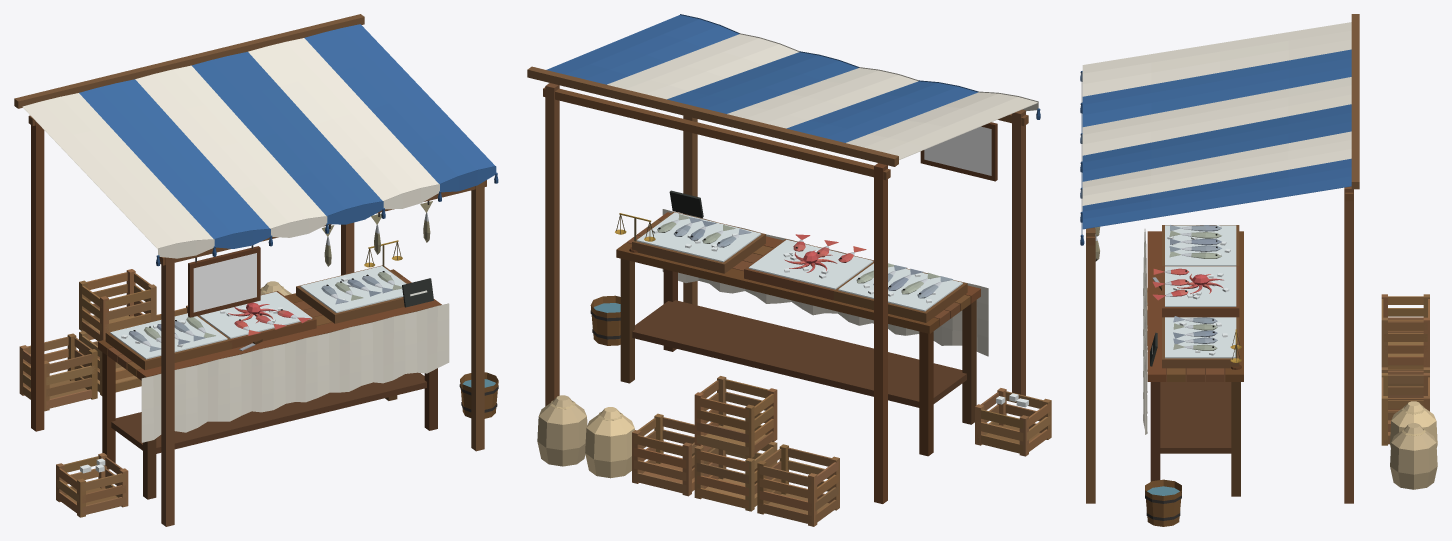
Rendered from stall_fish.glb.
3 views of the same model, side by side, from view 1: azimuth 30°, elevation 25°; view 2: azimuth 150°, elevation 25°; view 3: azimuth 270°, elevation 25° (orthographic). The views are drawn at different scales.
Visible parts, largest first — view 1: House; view 2: House; view 3: House.
Boxes of the visible parts, bbox=[...] form: House: bbox=[14, 14, 498, 526]; House: bbox=[527, 14, 1051, 526]; House: bbox=[1080, 14, 1437, 526].
Bounding box in the file's own units: 3.01 × 2.25 × 2.21.
Materials: 4 (4 with a texture image).
